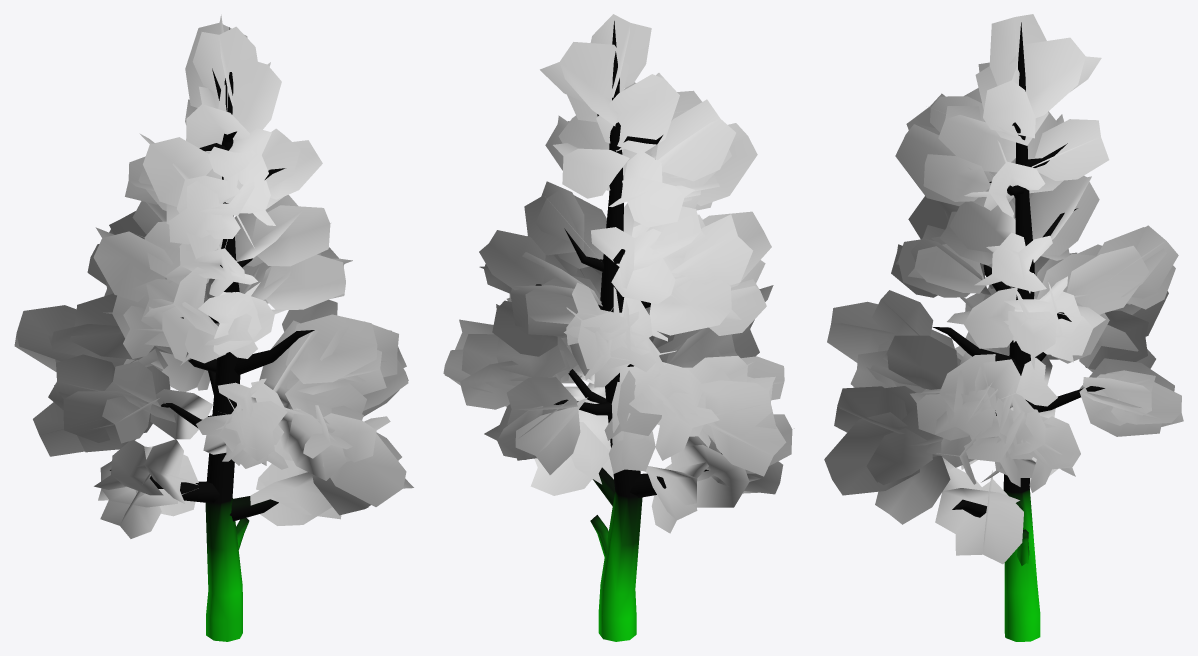
The model's file is SM_FirTree5.FBX.
The picture shows the model from 3 angles, left to right: view 1: azimuth 30°, elevation 25°; view 2: azimuth 150°, elevation 25°; view 3: azimuth 270°, elevation 25°; orthographic projection.
Visible parts, largest first — view 1: SM_FirTree5; view 2: SM_FirTree5; view 3: SM_FirTree5.
Part boxes in pixels (bbox=[...]): SM_FirTree5: bbox=[14, 14, 413, 641]; SM_FirTree5: bbox=[443, 14, 794, 641]; SM_FirTree5: bbox=[824, 14, 1183, 641].
Bounding box in the file's own units: 1351 × 1213 × 2297.
